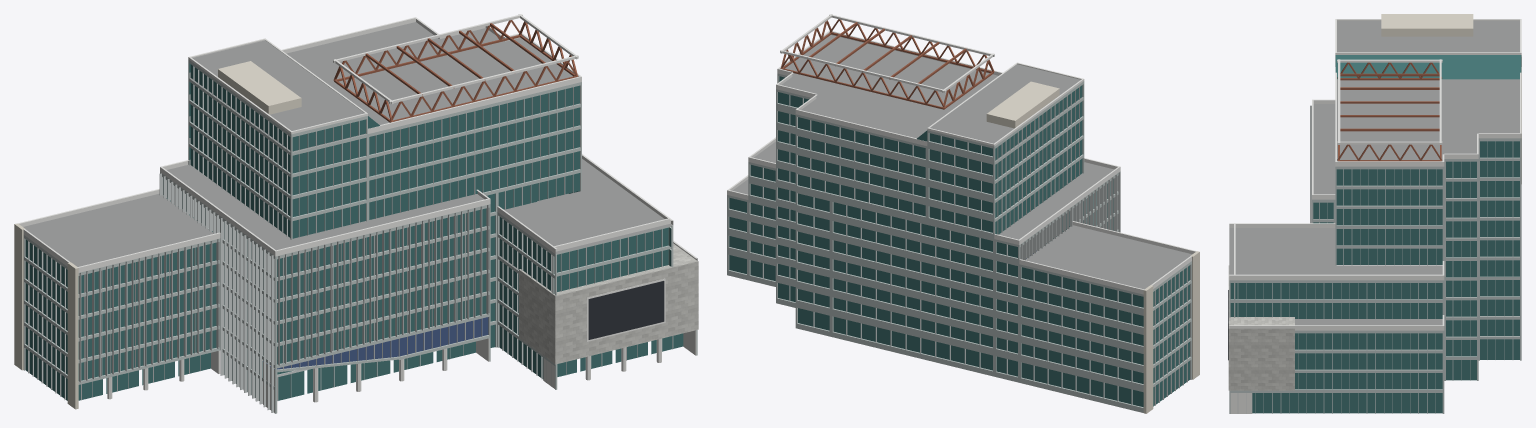
3 views of the same model, side by side, from view 1: azimuth 30°, elevation 25°; view 2: azimuth 150°, elevation 25°; view 3: azimuth 270°, elevation 25° (orthographic). The views are drawn at different scales.
Visible parts, largest first — view 1: pharmacy__glass, pharmacy__frame, pharmacy__roof, pharmacy__spandrel, pharmacy__trim, pharmacy__stone, pharmacy__panel, pharmacy__truss, pharmacy__screen, pharmacy__glassBlue; view 2: pharmacy__glass, pharmacy__spandrel, pharmacy__roof, pharmacy__frame, pharmacy__trim, pharmacy__panel, pharmacy__truss; view 3: pharmacy__glass, pharmacy__roof, pharmacy__spandrel, pharmacy__trim, pharmacy__frame, pharmacy__stone, pharmacy__truss, pharmacy__panel.
Boxes of the visible parts, left/top/right/bottom form: pharmacy__glass: left=25, top=63, right=683, bottom=400; pharmacy__frame: left=28, top=66, right=673, bottom=412; pharmacy__roof: left=23, top=22, right=672, bottom=270; pharmacy__spandrel: left=23, top=59, right=697, bottom=413; pharmacy__trim: left=16, top=14, right=697, bottom=412; pharmacy__stone: left=519, top=243, right=698, bottom=364; pharmacy__panel: left=14, top=61, right=301, bottom=409; pharmacy__truss: left=333, top=20, right=578, bottom=122; pharmacy__screen: left=588, top=281, right=664, bottom=339; pharmacy__glassBlue: left=263, top=317, right=488, bottom=369; pharmacy__glass: left=729, top=76, right=1189, bottom=407; pharmacy__spandrel: left=727, top=73, right=1191, bottom=412; pharmacy__roof: left=732, top=35, right=1191, bottom=289; pharmacy__frame: left=762, top=87, right=1187, bottom=405; pharmacy__trim: left=727, top=14, right=1196, bottom=294; pharmacy__panel: left=986, top=81, right=1199, bottom=413; pharmacy__truss: left=780, top=19, right=994, bottom=109; pharmacy__glass: left=1230, top=55, right=1521, bottom=413; pharmacy__roof: left=1229, top=21, right=1519, bottom=325; pharmacy__spandrel: left=1229, top=55, right=1521, bottom=413; pharmacy__trim: left=1229, top=19, right=1521, bottom=413; pharmacy__frame: left=1237, top=105, right=1513, bottom=413; pharmacy__stone: left=1228, top=265, right=1294, bottom=390; pharmacy__truss: left=1337, top=62, right=1442, bottom=161; pharmacy__panel: left=1381, top=14, right=1521, bottom=183.
Bounding box in the file's own units: 95.23 × 47.4 × 51.09.
10 materials, 1 textured.
